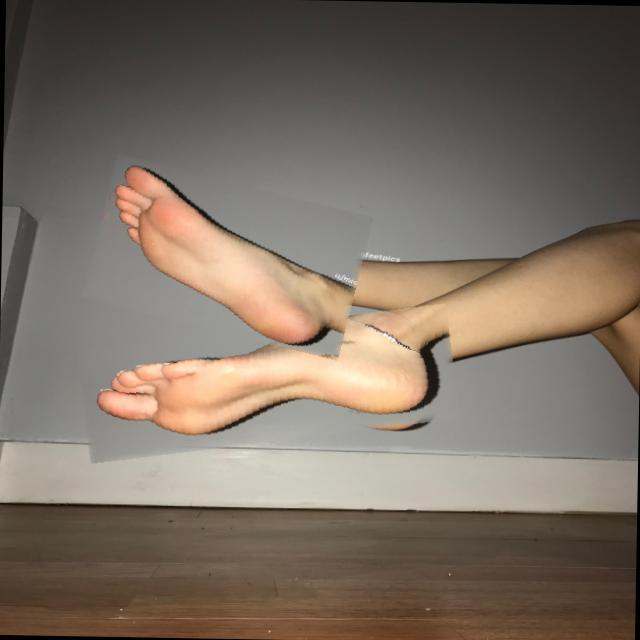Barefoots: (83, 307, 456, 445), (114, 156, 341, 343)
